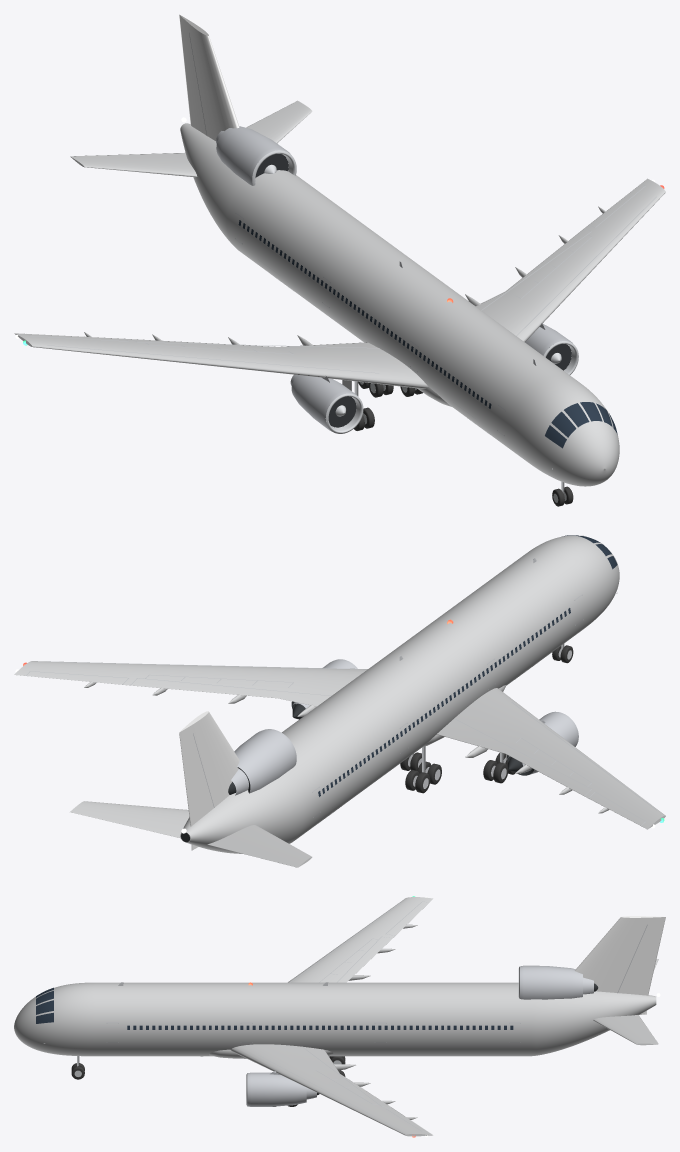
The picture shows the model from 3 angles, top to bottom: view 1: azimuth 30°, elevation 25°; view 2: azimuth 150°, elevation 25°; view 3: azimuth 270°, elevation 25°; orthographic projection. The views are drawn at different scales.
Parts seen in each view (by area): view 1: airframe, gear; view 2: airframe, gear; view 3: airframe, gear.
Boxes of the visible parts, left/top/right/bottom form: airframe: left=14, top=14, right=665, bottom=486; gear: left=342, top=380, right=573, bottom=506; airframe: left=14, top=535, right=665, bottom=867; gear: left=400, top=643, right=573, bottom=793; airframe: left=14, top=896, right=665, bottom=1137; gear: left=71, top=1055, right=345, bottom=1106.
Size of the model in its own units: 47.83 by 14.93 by 55.03.
